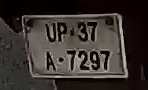2: (75, 47, 92, 73)
3: (76, 19, 89, 46)
7: (86, 19, 100, 46), (99, 46, 111, 72), (65, 47, 77, 72)
9: (88, 47, 103, 74)
A: (42, 49, 57, 74)
P: (55, 21, 69, 45)
U: (44, 19, 57, 44)
